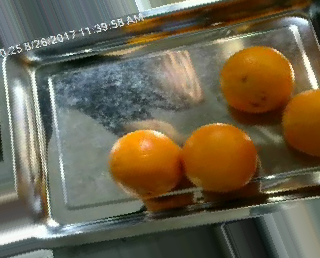Orange: (181, 121, 257, 191), (109, 128, 183, 198), (219, 45, 295, 113)
